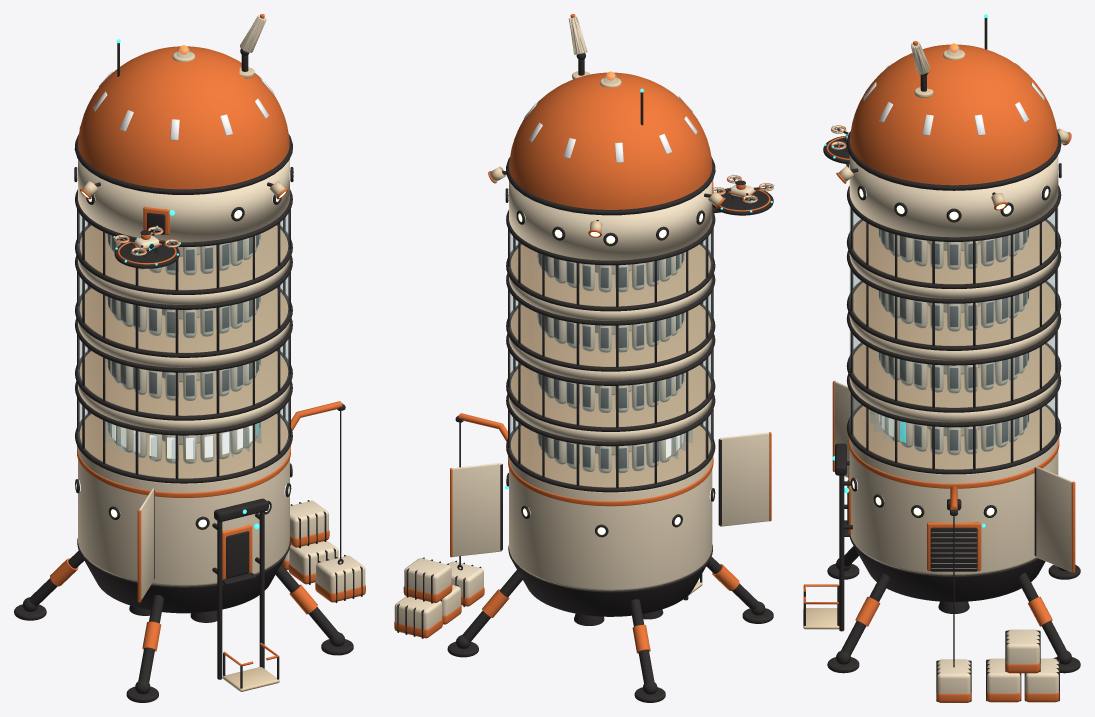
Rendered from ark.glb.
The picture shows the model from 3 angles, left to right: view 1: azimuth 30°, elevation 25°; view 2: azimuth 150°, elevation 25°; view 3: azimuth 270°, elevation 25°; orthographic projection. The views are drawn at different scales.
Parts seen in each view (by area): view 1: Cone, parked_drone; view 2: Cone, parked_drone; view 3: Cone.
Part boxes in pixels (x1,y1,x2,y2): Cone: (14, 14, 365, 702); parked_drone: (113, 225, 180, 256); Cone: (394, 14, 773, 702); parked_drone: (713, 174, 774, 204); Cone: (803, 14, 1080, 702).
Bounding box in the file's own units: 4.1 × 8.35 × 3.46.
